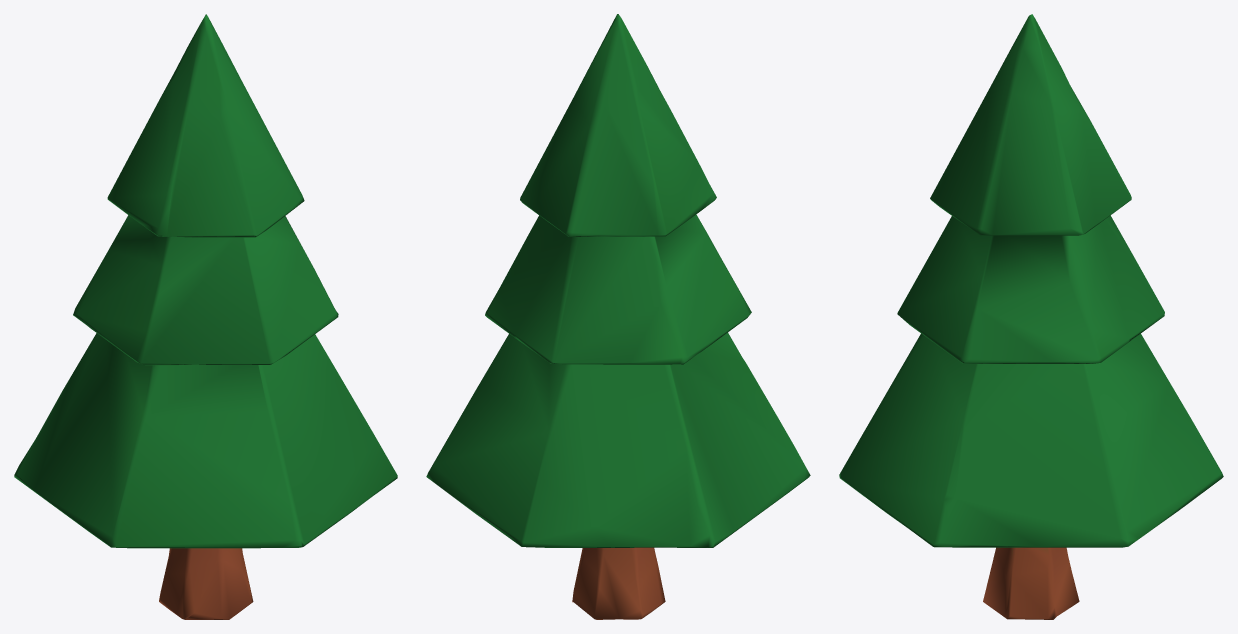
The model's file is gen3d-fir-tree-lod1.glb.
The picture shows the model from 3 angles, left to right: view 1: azimuth 30°, elevation 25°; view 2: azimuth 150°, elevation 25°; view 3: azimuth 270°, elevation 25°; orthographic projection.
Parts seen in each view (by area): view 1: part_0; view 2: part_0; view 3: part_0.
Boxes of the visible parts, x1,y1,x2,y2 form: part_0: (14, 14, 397, 619); part_0: (426, 14, 810, 619); part_0: (839, 14, 1223, 619).
Bounding box in the file's own units: 0.5109 × 0.9991 × 0.5908.
